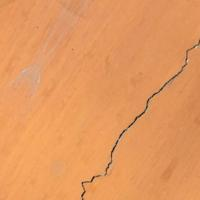crack: (67, 39, 199, 199)
